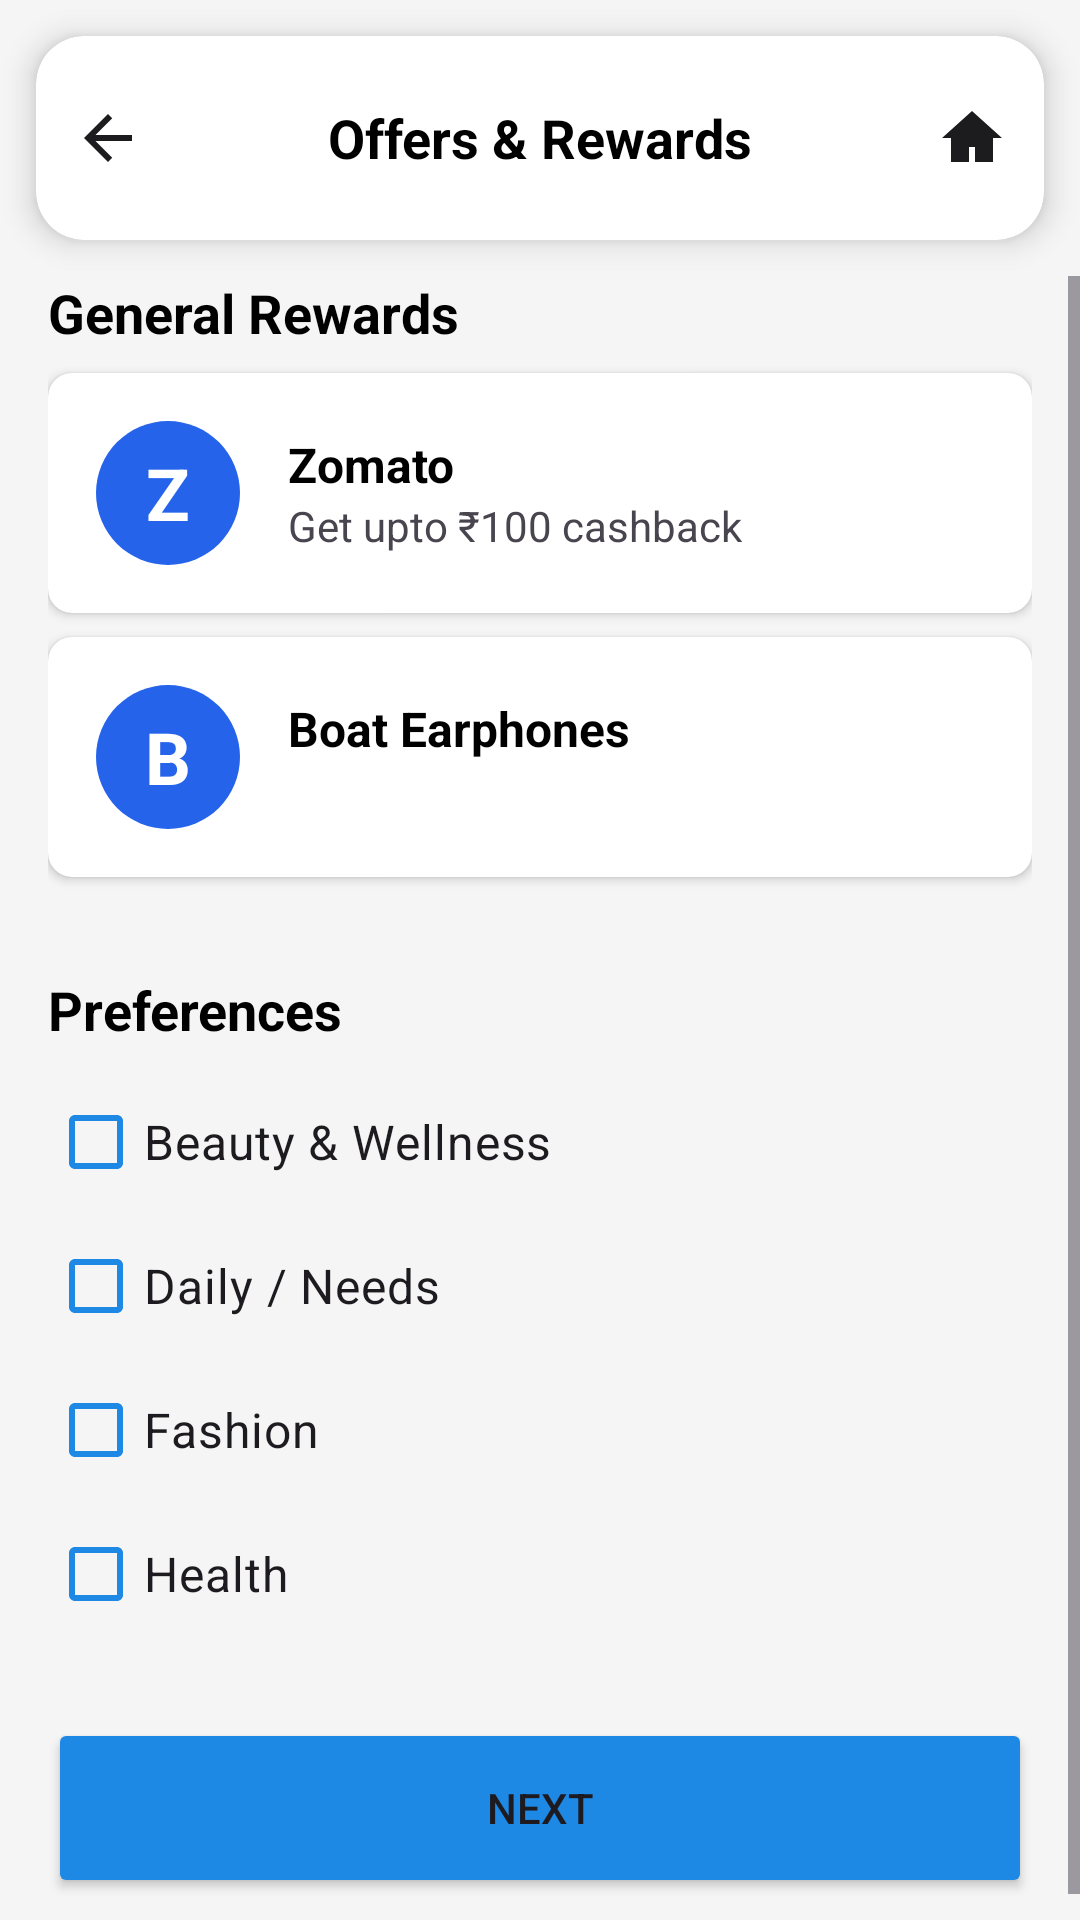

Icon bounding boxes for this 1080x1920 phone screenshot, format bbox(x1, y1, x2, y2):
Back: bbox(84, 114, 132, 162)
Home: bbox(942, 111, 1002, 162)
